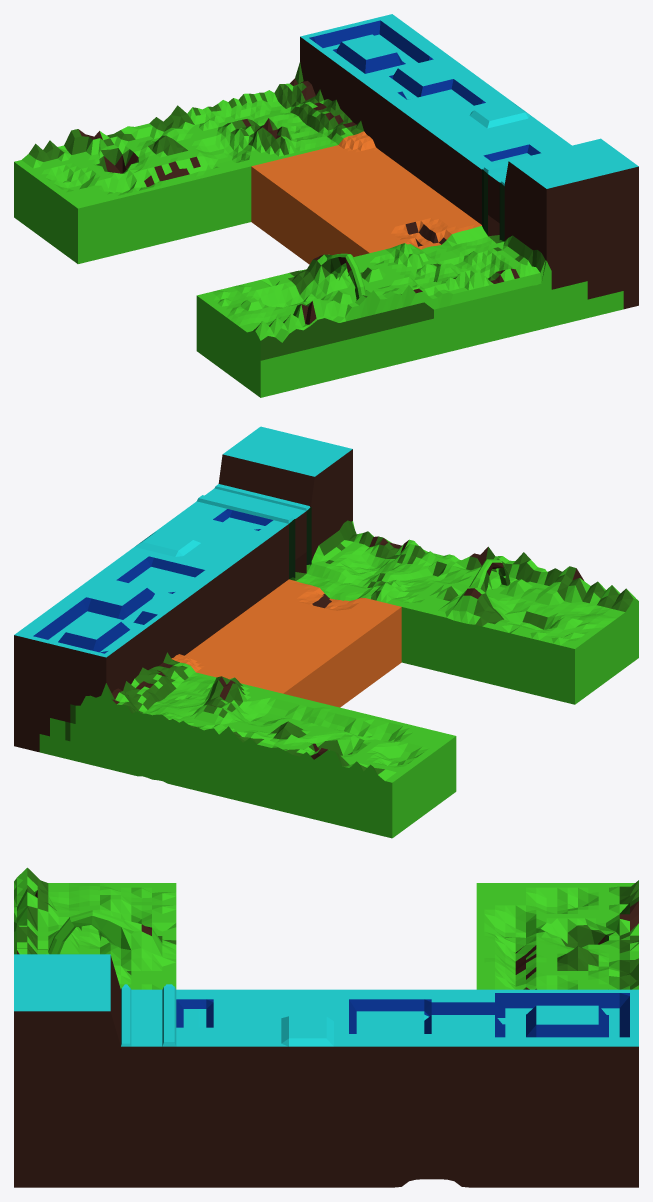
Rendered from sol2.FBX.
3 renders of one model, top to bottom at view 1: azimuth 30°, elevation 25°; view 2: azimuth 150°, elevation 25°; view 3: azimuth 270°, elevation 25°, orthographic. The views are drawn at different scales.
Parts seen in each view (by area): view 1: Box001; view 2: Box001; view 3: Box001.
Boxes of the visible parts, bbox=[...] form: Box001: bbox=[14, 14, 638, 397]; Box001: bbox=[14, 426, 638, 838]; Box001: bbox=[14, 867, 638, 1187].
Size of the model in its own units: 533 by 187 by 602.
